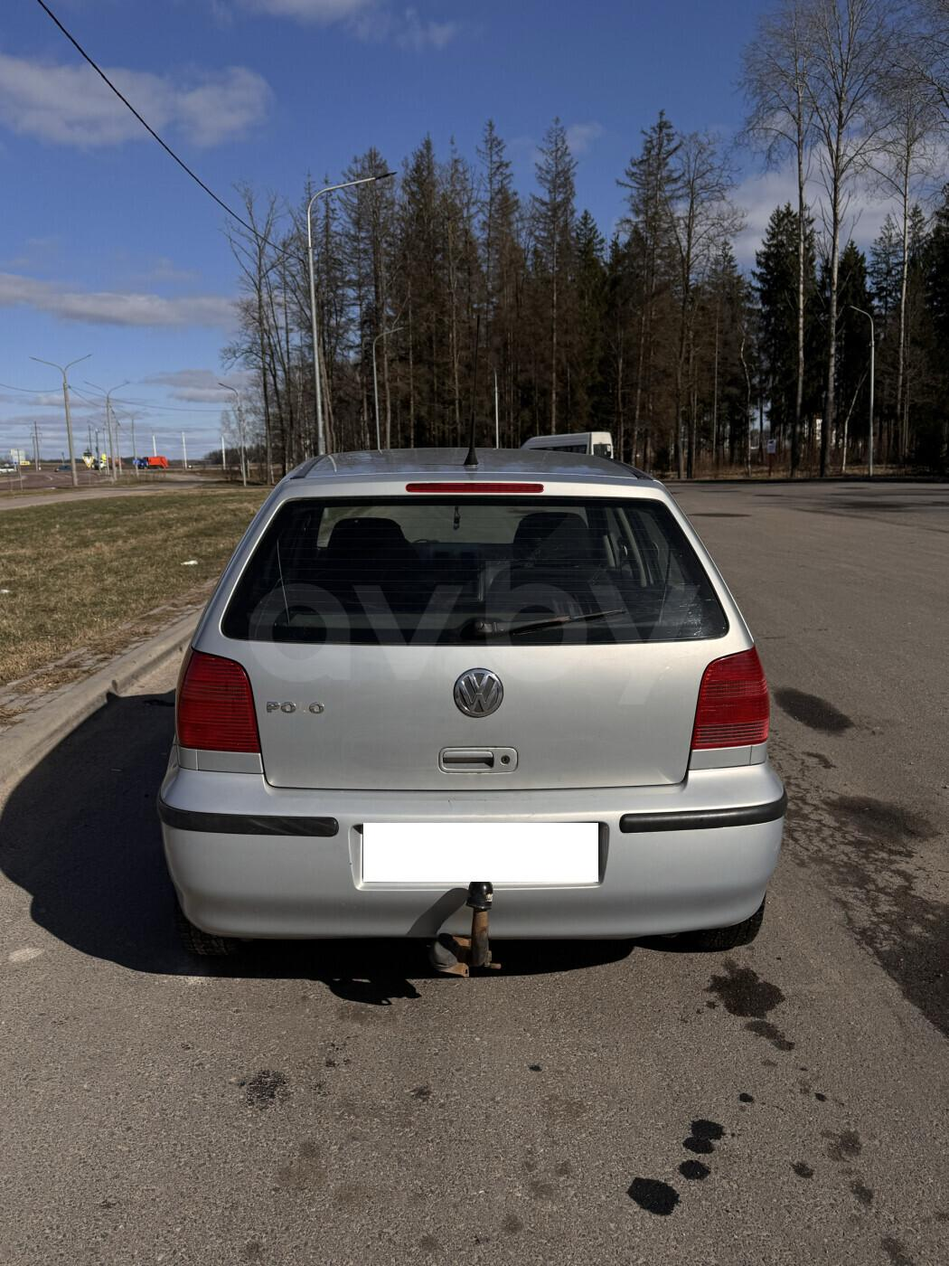Polo_2000-2002: (163, 439, 785, 980)
